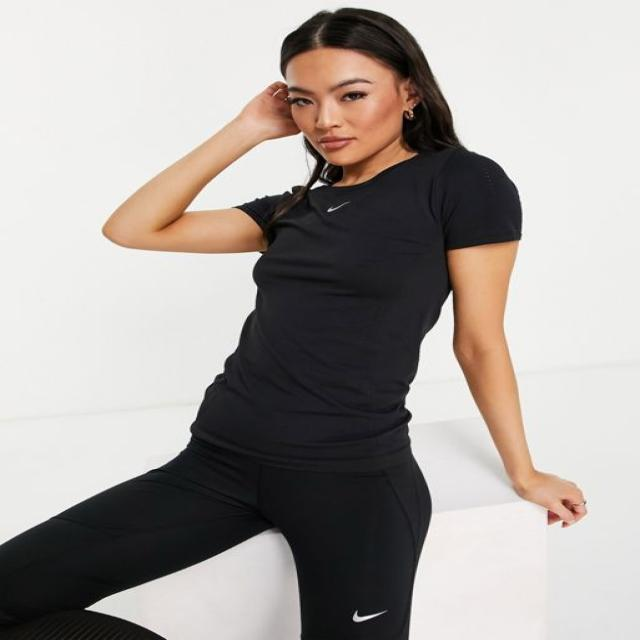tshirt: (186, 144, 525, 464)
